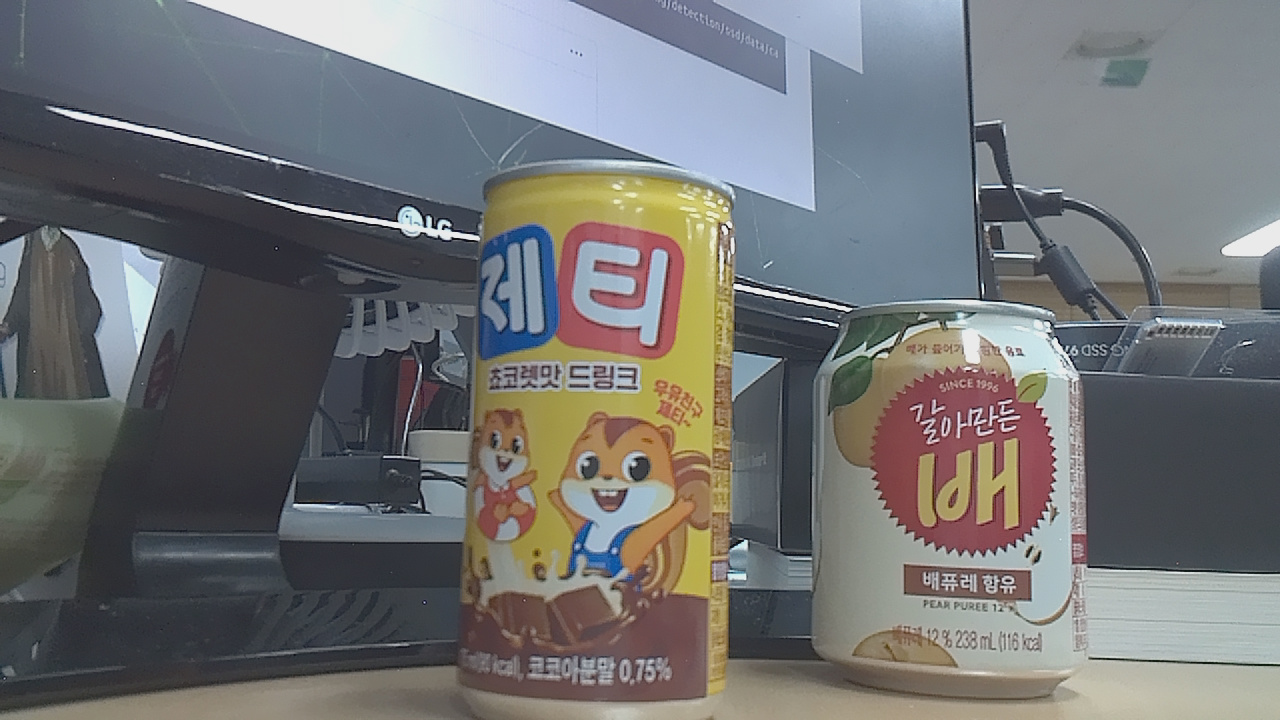IdH (pear juice): (801, 282, 1111, 717)
jetty: (442, 158, 745, 720)
